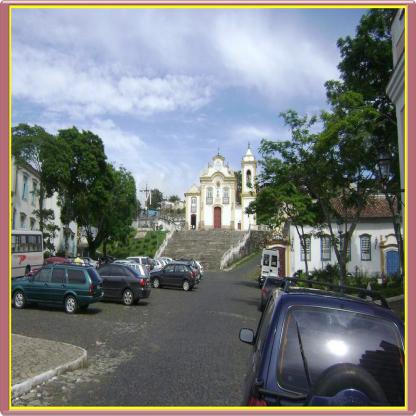Car: (239, 277, 407, 409), (99, 256, 203, 306), (13, 261, 102, 317), (260, 276, 285, 310)
